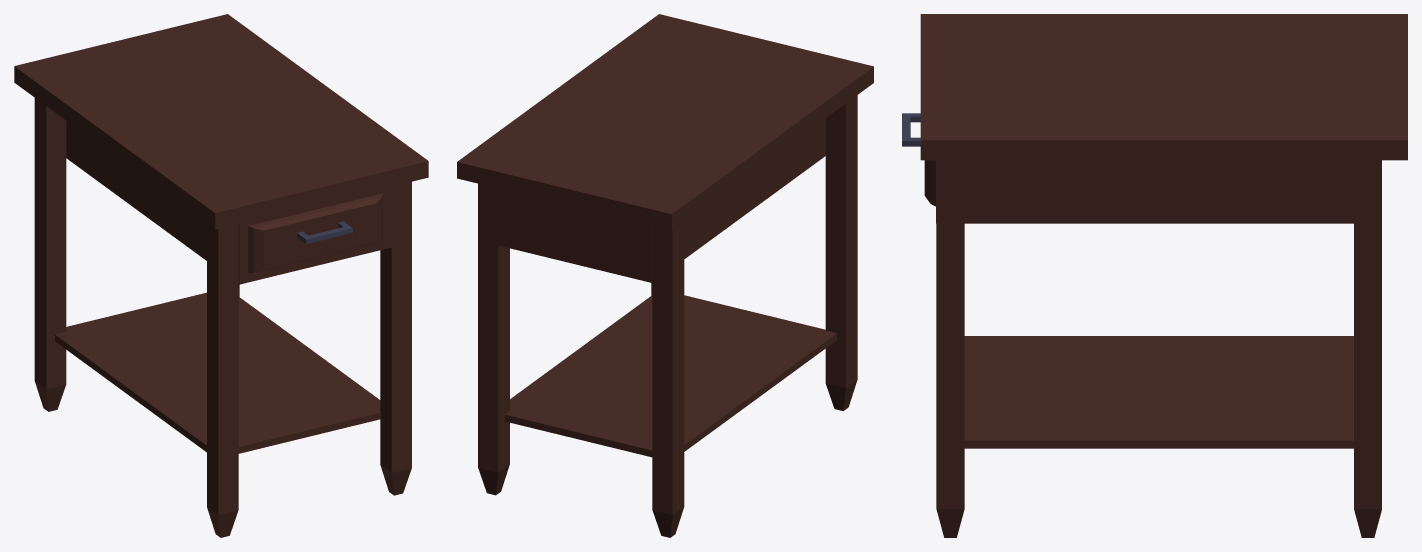
Rendered from end_table_creativetrio.glb.
The picture shows the model from 3 angles, left to right: view 1: azimuth 30°, elevation 25°; view 2: azimuth 150°, elevation 25°; view 3: azimuth 270°, elevation 25°; orthographic projection. The views are drawn at different scales.
Parts seen in each view (by area): view 1: End Table; view 2: End Table; view 3: End Table.
Boxes of the visible parts, x1,y1,x2,y2 form: End Table: [14, 14, 428, 537]; End Table: [457, 14, 873, 537]; End Table: [902, 14, 1407, 537].
Size of the model in its own units: 0.3154 by 0.4737 by 0.5335.
1 material, 1 textured.
